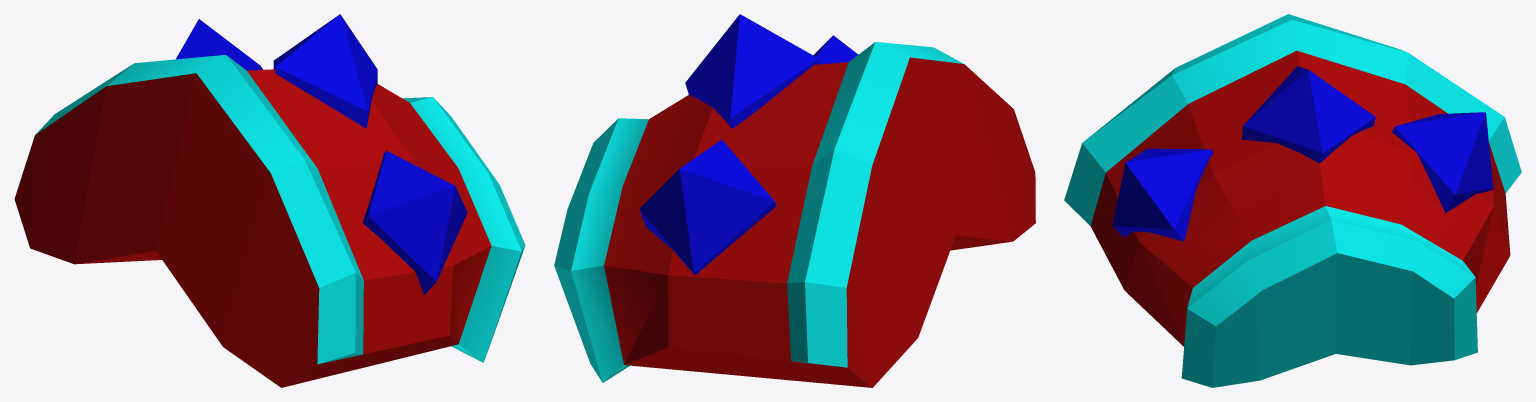
The model's file is Chr_ShoulderAttachLeft_Static_05.fbx.
3 renders of one model, left to right at view 1: azimuth 30°, elevation 25°; view 2: azimuth 150°, elevation 25°; view 3: azimuth 270°, elevation 25°, orthographic. The views are drawn at different scales.
Parts seen in each view (by area): view 1: Chr_ShoulderAttachLeft_05; view 2: Chr_ShoulderAttachLeft_05; view 3: Chr_ShoulderAttachLeft_05.
Part boxes in pixels (bbox=[...]): Chr_ShoulderAttachLeft_05: bbox=[14, 14, 525, 387]; Chr_ShoulderAttachLeft_05: bbox=[554, 14, 1035, 387]; Chr_ShoulderAttachLeft_05: bbox=[1064, 14, 1521, 387].
Size of the model in its own units: 22.43 by 19.02 by 28.4.
